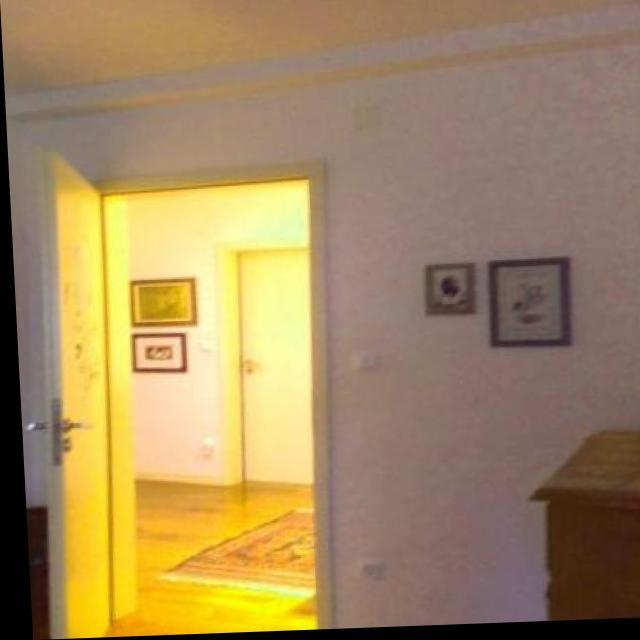door_handle: (54, 417, 99, 436)
